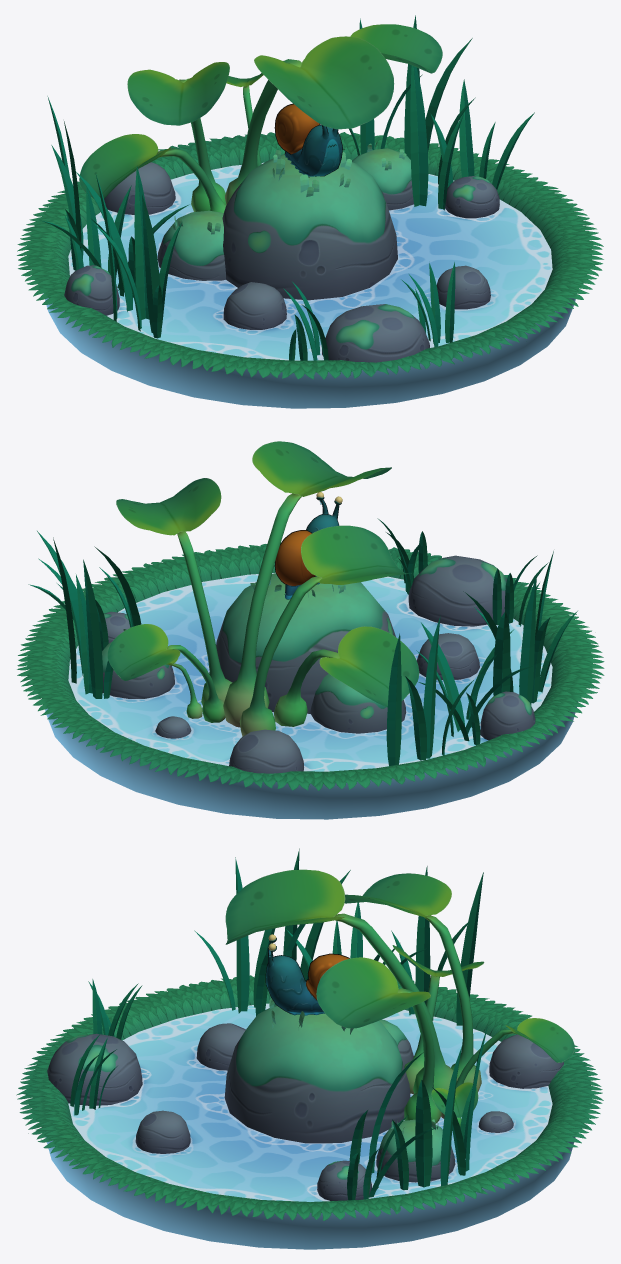
The model's file is Sad_Snail.fbx.
3 views of the same model, one above another, from view 1: azimuth 30°, elevation 25°; view 2: azimuth 150°, elevation 25°; view 3: azimuth 270°, elevation 25° (orthographic).
Visible parts, largest first — view 1: Base_water, Base_cesped, Plant_ext, Rock_1_low.001, Plant_1, Plant_1.003, Rock_2_low.002, Plant_2.001, Rock_1_low.003, Snail_sad, Plant_1.001, Rock_3_low.002 (+7 smaller); view 2: Base_water, Base_cesped, Plant_ext, Rock_1_low.001, Plant_1, Plant_1.003, Plant_2.001, Plant_1.001, Rock_2_low.002, Plant_1.002, Rock_1_low.003, Rock_3_low.003 (+7 smaller); view 3: Base_water, Base_cesped, Rock_1_low.001, Plant_ext, Plant_1, Plant_1.001, Plant_1.003, Rock_2_low.002, Snail_sad, Rock_3_low.003, Plant_1.002, Rock_3_low.001 (+7 smaller).
Part boxes in pixels (x1,y1,x2,y2): Base_water: [43, 162, 575, 408]; Base_cesped: [17, 132, 603, 379]; Plant_ext: [40, 15, 534, 360]; Rock_1_low.001: [222, 153, 397, 300]; Plant_1: [225, 36, 394, 204]; Plant_1.003: [127, 62, 229, 211]; Rock_2_low.002: [322, 304, 429, 362]; Plant_2.001: [79, 134, 226, 212]; Rock_1_low.003: [157, 210, 225, 280]; Snail_sad: [274, 103, 342, 177]; Plant_1.001: [284, 24, 442, 153]; Rock_3_low.002: [223, 282, 286, 329]; Base_water: [45, 572, 577, 819]; Base_cesped: [17, 544, 604, 790]; Plant_ext: [28, 518, 577, 765]; Rock_1_low.001: [216, 573, 395, 713]; Plant_1: [223, 441, 391, 727]; Plant_1.003: [239, 525, 411, 736]; Plant_2.001: [274, 626, 419, 726]; Plant_1.001: [116, 478, 232, 705]; Rock_2_low.002: [408, 555, 506, 626]; Plant_1.002: [107, 624, 225, 722]; Rock_1_low.003: [310, 673, 406, 733]; Rock_3_low.003: [229, 729, 303, 773]; Base_water: [45, 1003, 575, 1249]; Base_cesped: [16, 975, 603, 1220]; Rock_1_low.001: [224, 1004, 410, 1143]; Plant_ext: [70, 848, 487, 1200]; Plant_1: [225, 869, 457, 1093]; Plant_1.001: [316, 957, 441, 1123]; Plant_1.003: [344, 873, 481, 1091]; Rock_2_low.002: [47, 1033, 142, 1105]; Snail_sad: [265, 934, 349, 1015]; Rock_3_low.003: [489, 1034, 563, 1088]; Plant_1.002: [441, 1018, 574, 1118]; Rock_3_low.001: [135, 1110, 190, 1153].
Size of the model in its own units: 5265 by 2392 by 5265.
